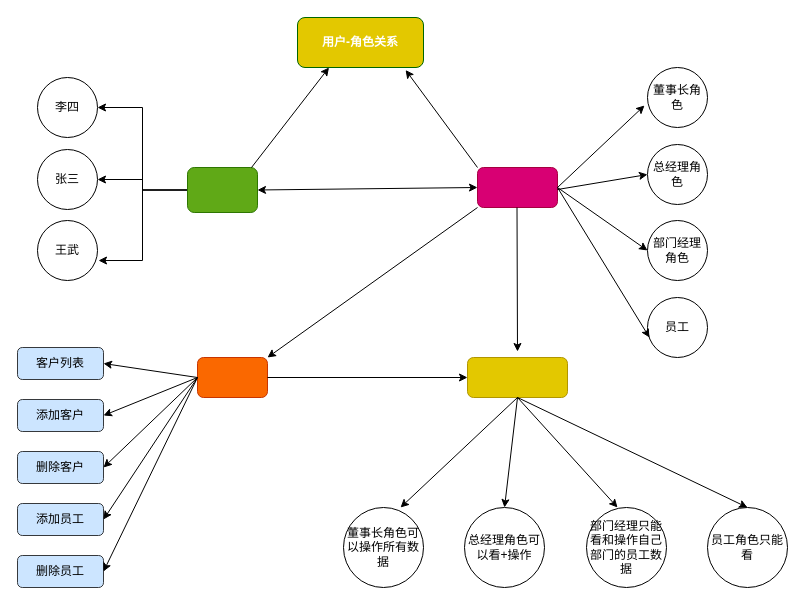
Image size: 805x605. Some labels were removed from this diagram. The shapes that lost their labels are listed below. From the top down, each one's centre as x and y in pixels, then its label:
At point (222, 189): "用户".
At point (517, 187): "角色".
At point (232, 377): "权限".
At point (517, 377): "权限与角色关系".
